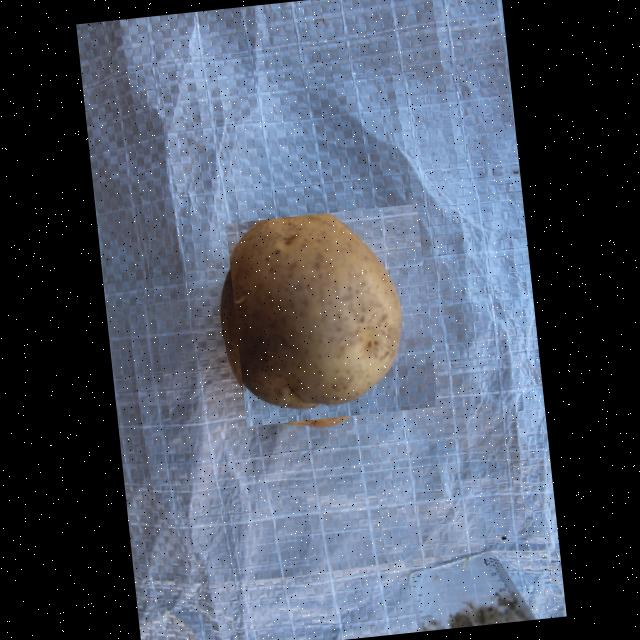Diseased-fungal potato: (224, 204, 436, 426)
